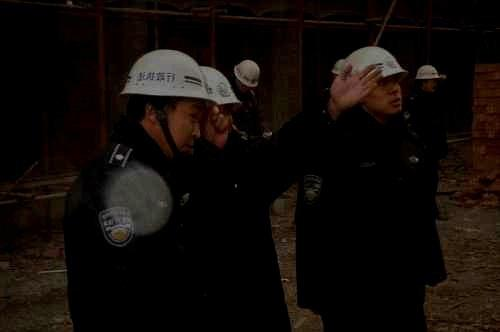helmet: (118, 50, 217, 159), (343, 46, 408, 116), (198, 65, 242, 148), (234, 58, 260, 88), (415, 65, 439, 93), (331, 59, 346, 75)
